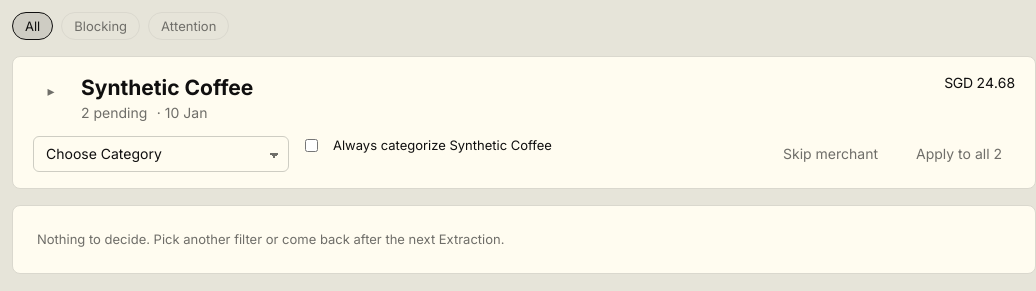
Scenario: ReviewPage › skips a merchant group without categorizing it
What coordinates should you click on to do the following:
click the button "Skip merchant"
I would click on:
 (830, 154)
Its box is [770,136,891,172].
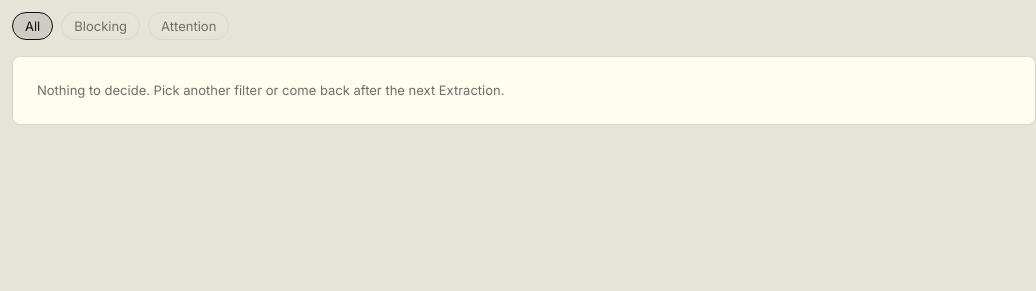
expect the heading "Synthetic Coffee" is gone: met
